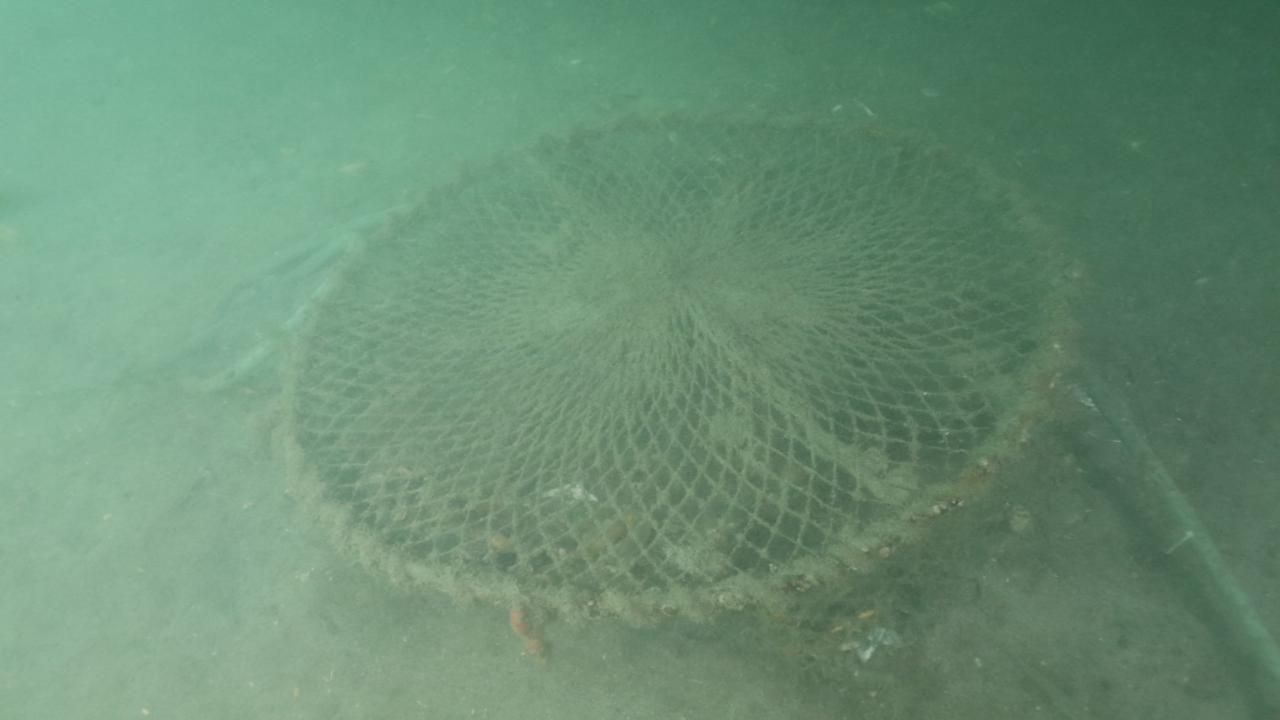circular fish trap: (271, 100, 1072, 627)
